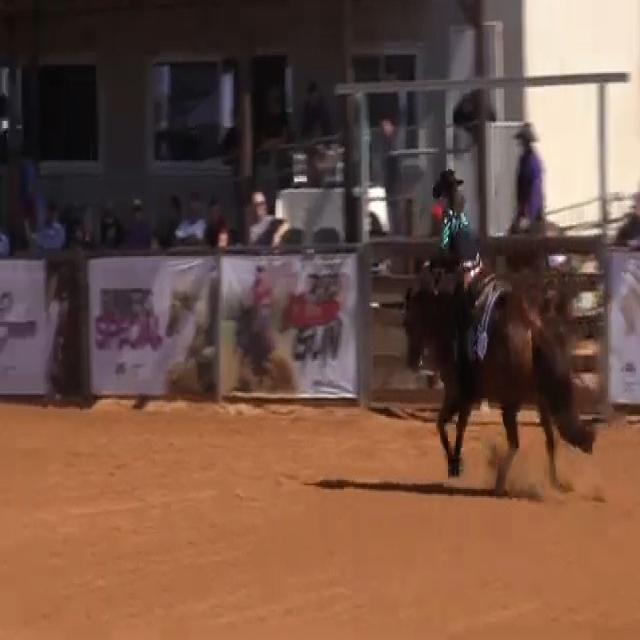horse: (399, 256, 596, 496)
